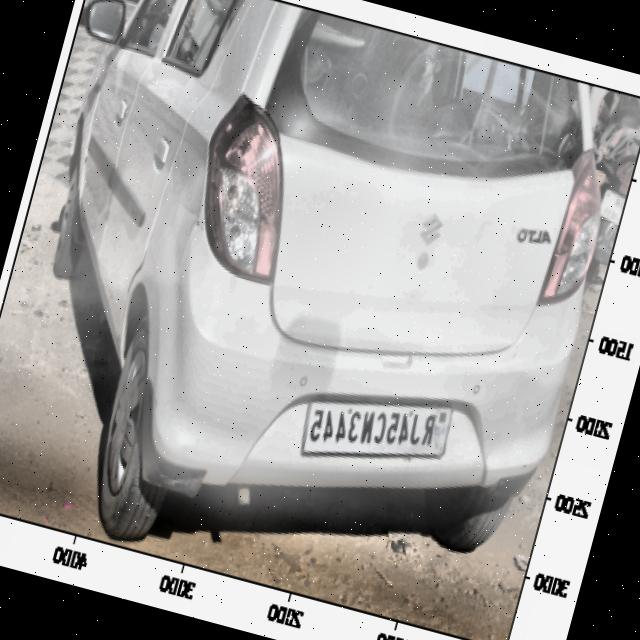license_plate: (300, 379, 446, 484)
